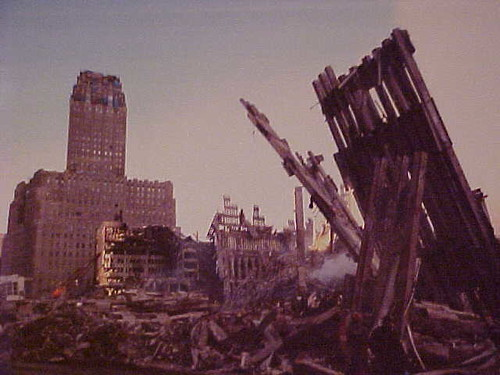building: (12, 69, 188, 292), (209, 188, 315, 301), (95, 225, 206, 291)
debris: (1, 116, 459, 375)
sky: (144, 1, 500, 166)
